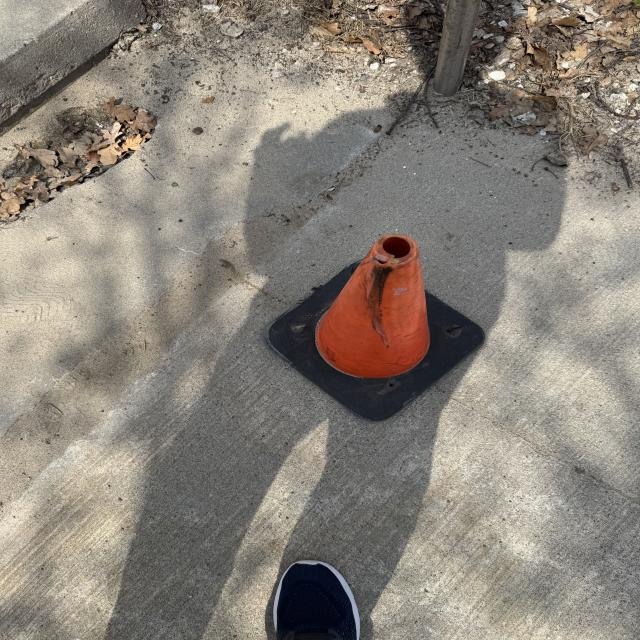Traffic Cone: (266, 235, 487, 423)
